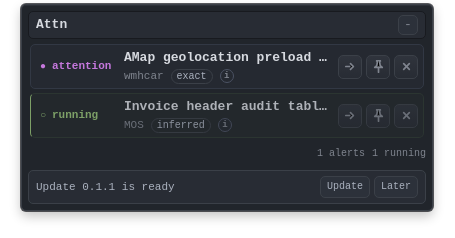
it: StatusPanelView › lets the user defer an available update and releases its native resource
The image size is (455, 238).
Click the button "Later".
click(396, 187)  # box [374, 176, 418, 198]
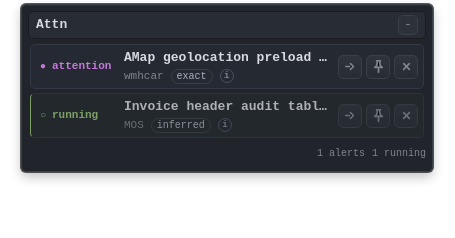
expect the text "Update 0.1.1 is ready" is gone: met
